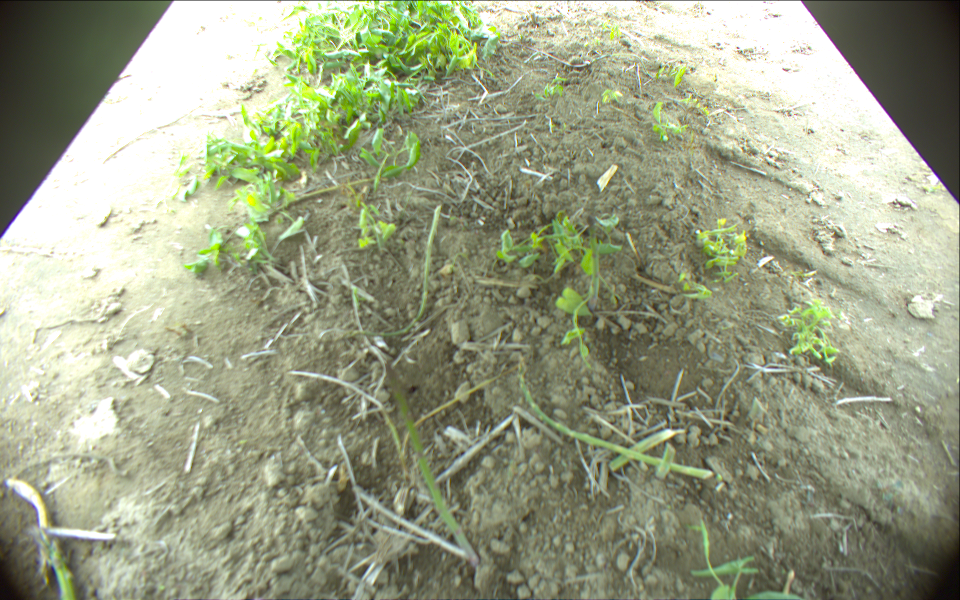aspa: (515, 361, 715, 478), (381, 359, 482, 569), (357, 204, 446, 339), (7, 480, 77, 600), (613, 426, 682, 475), (583, 211, 603, 314), (655, 446, 673, 477)
